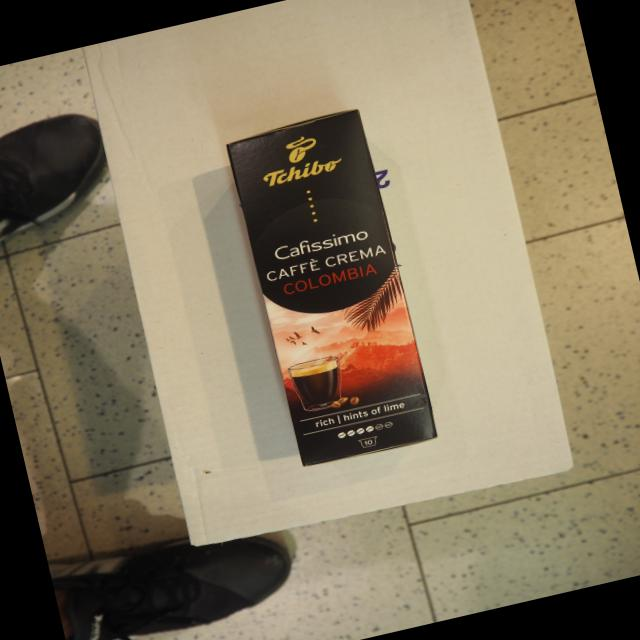Simo CC Colombia: (219, 105, 442, 470)
